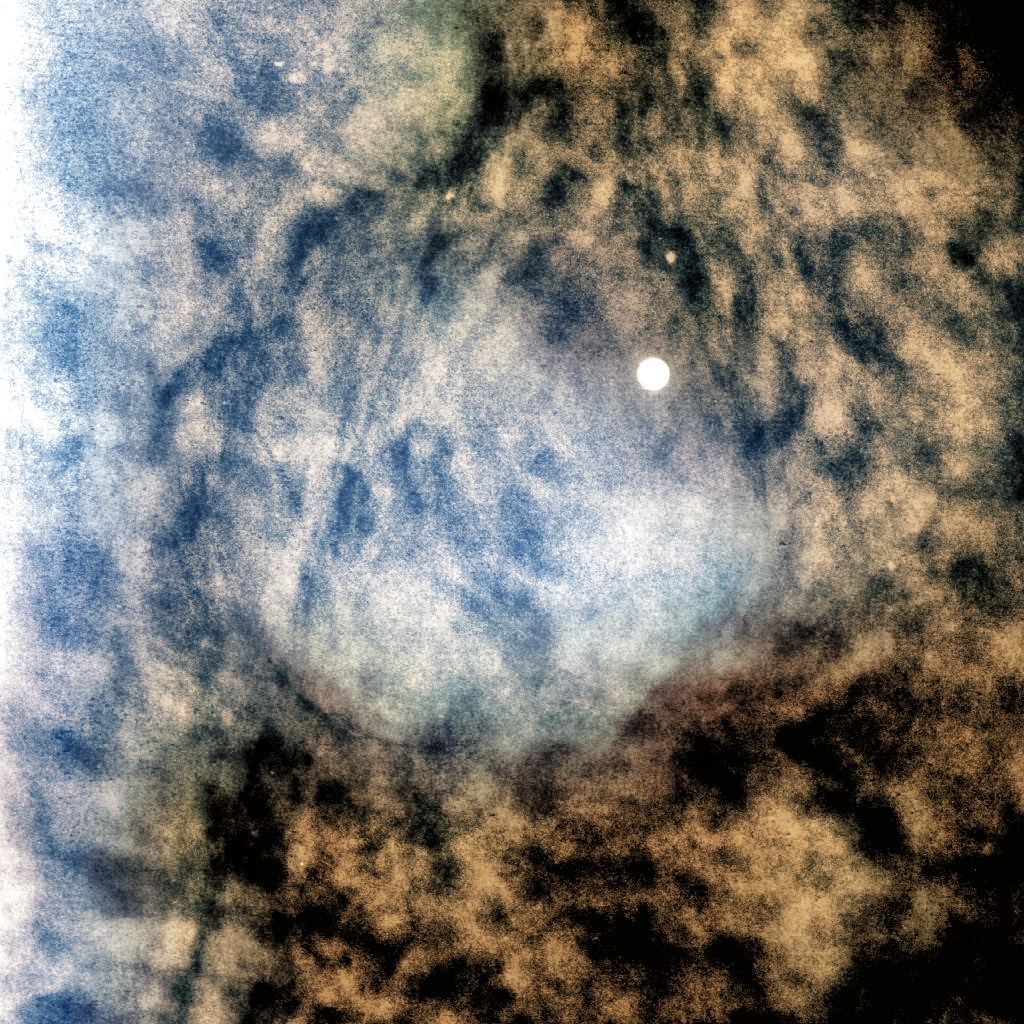tumor: (269, 254, 755, 770)
